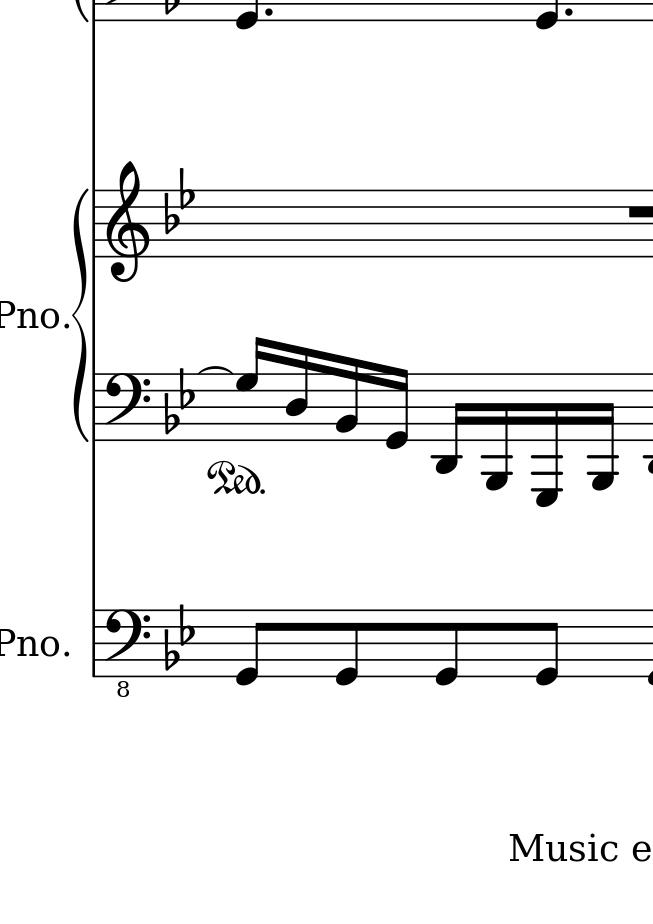16_-3: (433, 372, 465, 475)
16_-5: (587, 372, 619, 492), (481, 371, 511, 490)
16_-7: (533, 373, 562, 508)
16_0: (382, 365, 411, 453)
16_2: (333, 356, 361, 442)
16_4: (283, 346, 311, 438)
8_0: (235, 608, 266, 688), (433, 608, 461, 688), (333, 608, 360, 688), (534, 608, 561, 688)
8_7: (235, 334, 265, 442)
B_F: (160, 165, 195, 236), (163, 368, 196, 436), (163, 601, 196, 669)
Brace: (71, 187, 89, 439)
Fclef: (103, 372, 147, 444)
Gclef: (107, 161, 148, 284)
Lower_Fclef: (103, 607, 150, 696)
Pno: (1, 299, 59, 331), (1, 628, 59, 660)
Single_barline: (88, 374, 102, 439), (87, 611, 101, 675), (89, 190, 102, 257)
Slur: (197, 364, 233, 375)
dot: (262, 5, 275, 18), (562, 5, 575, 18)
